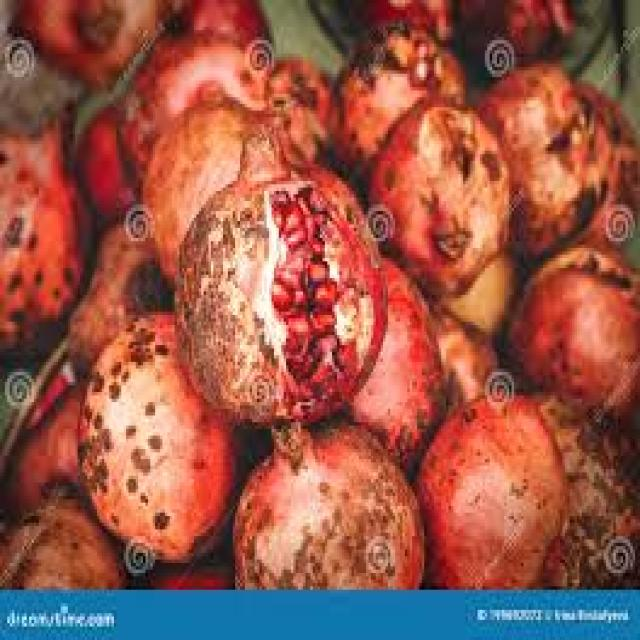overripe: (174, 124, 390, 436)
